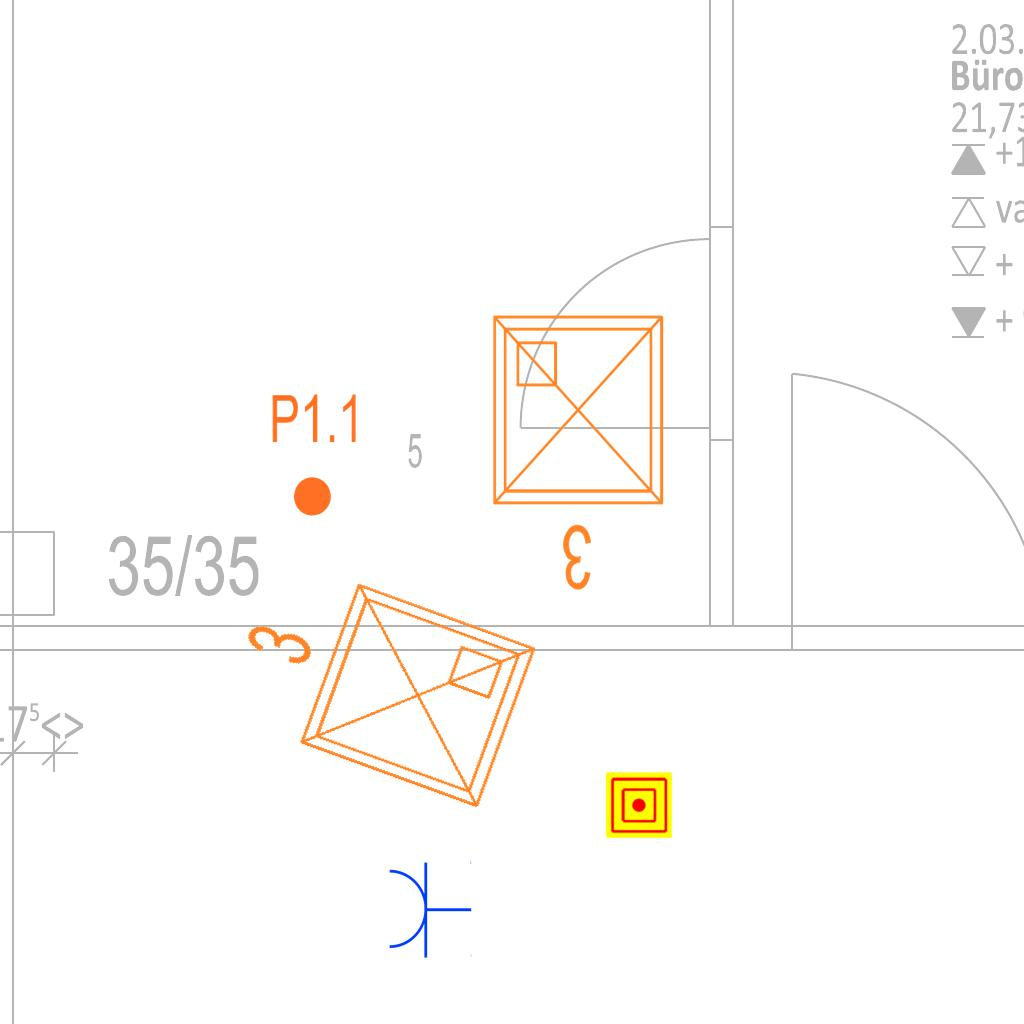Downlight_LED_Einbauleuchten_Flur: (269, 391, 362, 519)
Einbaudownlights_LED_Konferenzraeume: (201, 535, 555, 835), (478, 301, 686, 601)
NAM-Nichtautomatischer_Melder: (606, 772, 672, 838)
Schukosteckdose_einfach: (385, 859, 472, 959)
